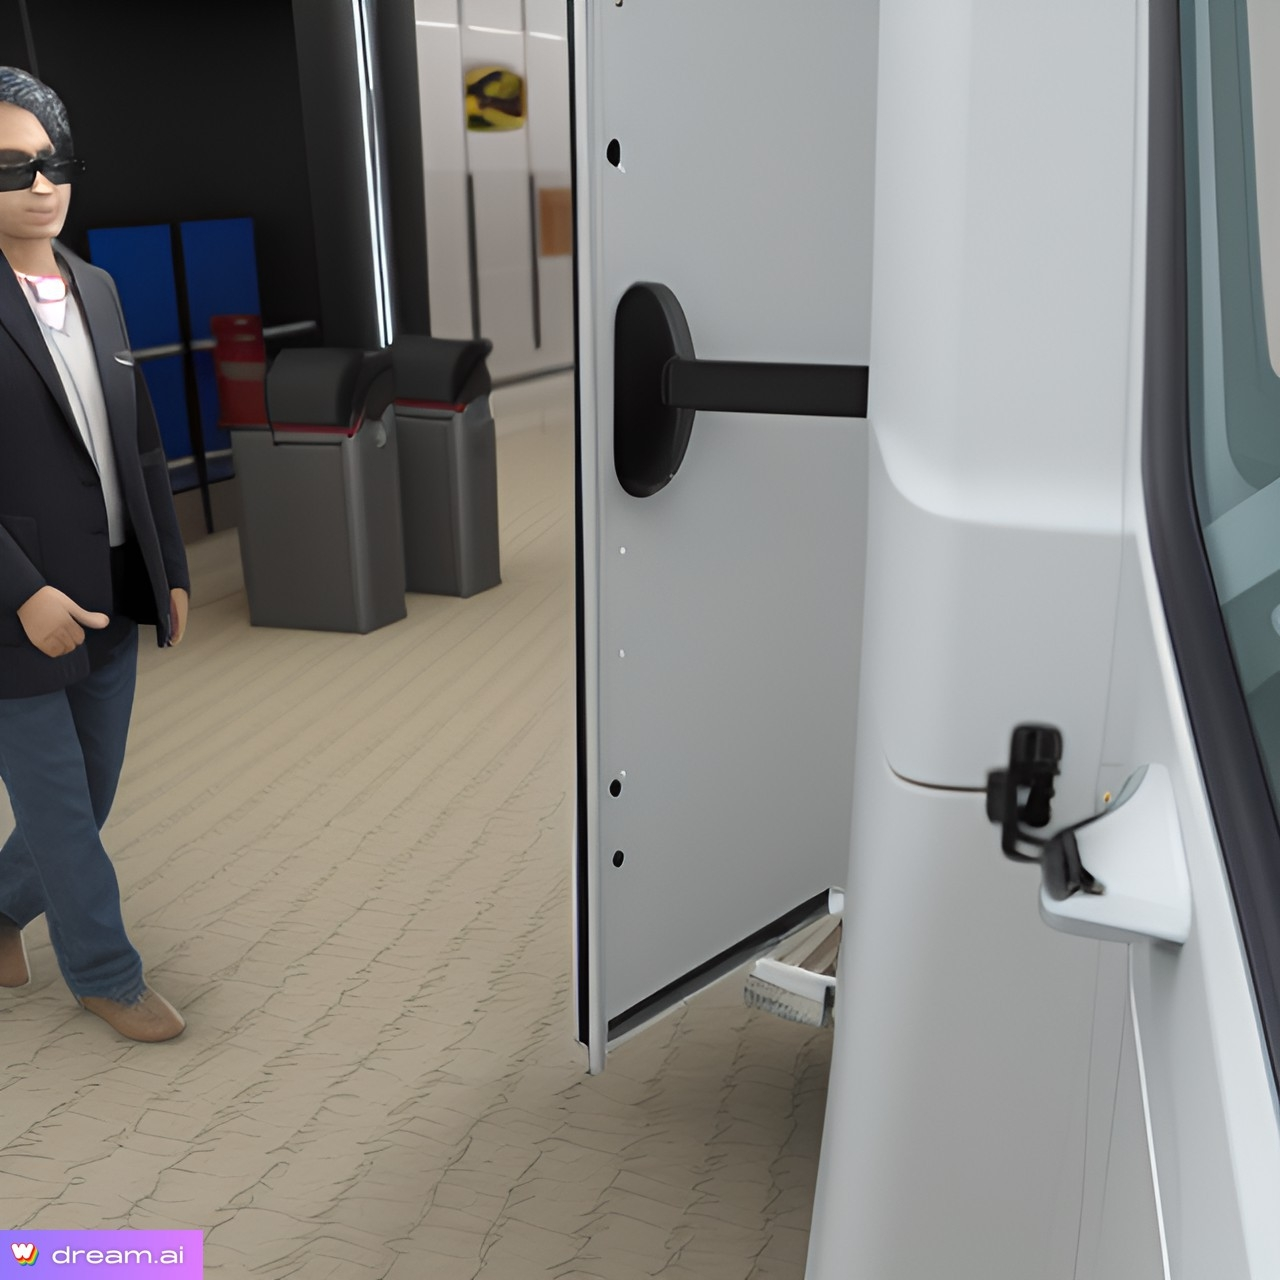door_front: (535, 1, 922, 1085)
step_front: (720, 872, 867, 1042)
